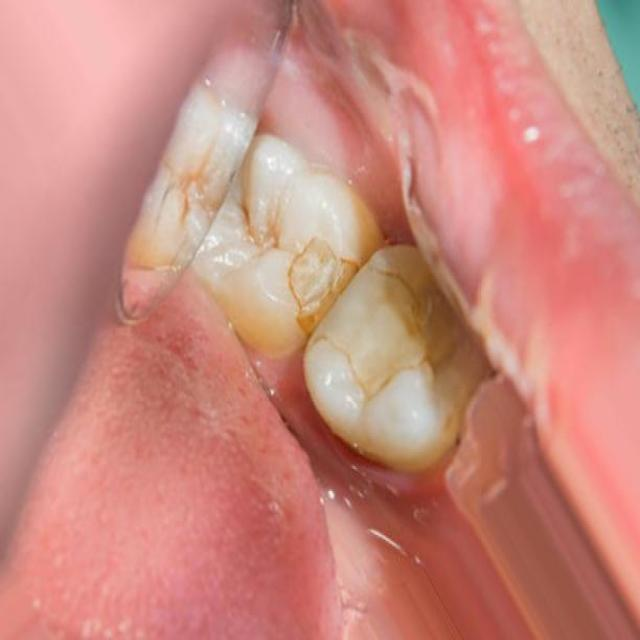caries: (268, 213, 434, 400)
